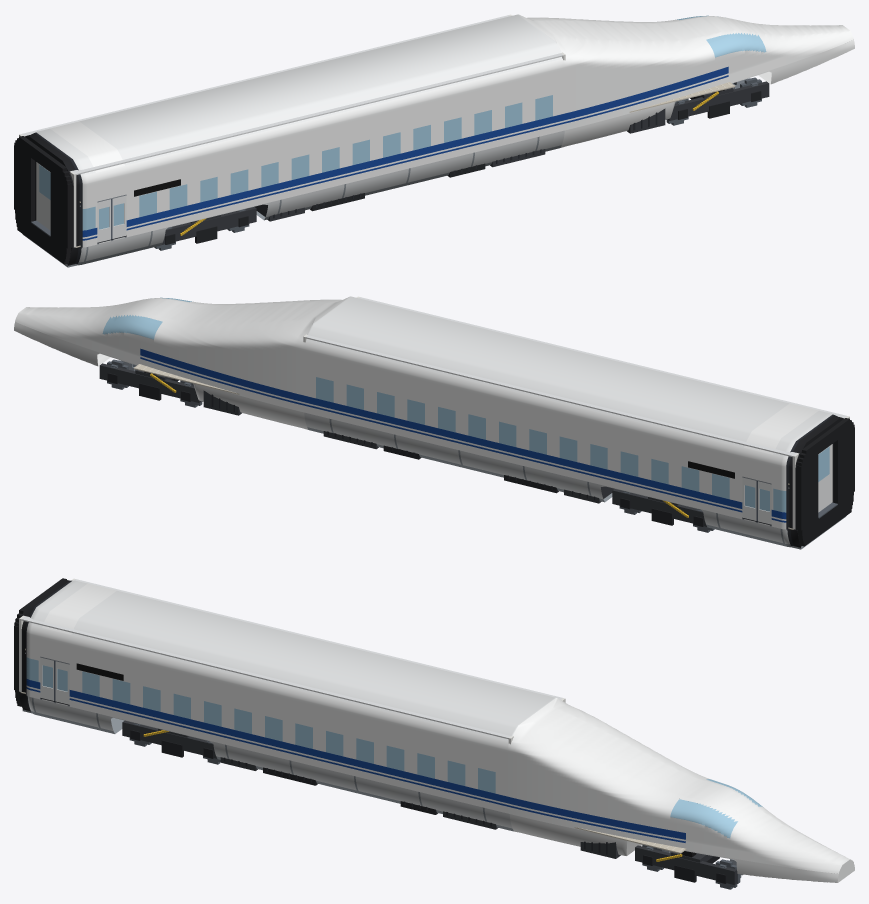
File: n700s_front.obj
3 renders of one model, top to bottom at view 1: azimuth 30°, elevation 25°; view 2: azimuth 150°, elevation 25°; view 3: azimuth 330°, elevation 25°, orthographic.
Visible parts, largest first — view 1: SHELL, SHELL_diaphragm, SHELL_ceiling, BOGEY_FRONT, FRAME, BOGEY_REAR, CONNECTING_DOOR_1_CG_CR_TOGGLE_TL_0.98_Z, EXTERNAL_DOOR_3_CG_DR1_TOGGLE_TL_-0.44_X, EXTERNAL_DOOR_4_CG_DR1_TOGGLE_TL_0.44_X; view 2: SHELL, SHELL_diaphragm, SHELL_ceiling, BOGEY_FRONT, FRAME, BOGEY_REAR, CONNECTING_DOOR_1_CG_CR_TOGGLE_TL_0.98_Z, EXTERNAL_DOOR_6_CG_DL1_TOGGLE_TL_-0.44_X, EXTERNAL_DOOR_7_CG_DL1_TOGGLE_TL_0.44_X; view 3: SHELL, SHELL_ceiling, BOGEY_FRONT, BOGEY_REAR, FRAME, EXTERNAL_DOOR_3_CG_DR1_TOGGLE_TL_-0.44_X, EXTERNAL_DOOR_4_CG_DR1_TOGGLE_TL_0.44_X.
Boxes of the visible parts, left/top/right/bottom form: SHELL: left=22, top=14, right=854, bottom=267; SHELL_diaphragm: left=14, top=136, right=72, bottom=264; SHELL_ceiling: left=21, top=15, right=563, bottom=175; BOGEY_FRONT: left=667, top=81, right=769, bottom=120; FRAME: left=97, top=108, right=665, bottom=243; BOGEY_REAR: left=162, top=207, right=256, bottom=244; CONNECTING_DOOR_1_CG_CR_TOGGLE_TL_0.98_Z: left=37, top=163, right=50, bottom=230; EXTERNAL_DOOR_3_CG_DR1_TOGGLE_TL_-0.44_X: left=97, top=199, right=112, bottom=242; EXTERNAL_DOOR_4_CG_DR1_TOGGLE_TL_0.44_X: left=112, top=195, right=126, bottom=238; SHELL: left=14, top=296, right=846, bottom=549; SHELL_diaphragm: left=796, top=418, right=854, bottom=546; SHELL_ceiling: left=305, top=297, right=846, bottom=457; BOGEY_FRONT: left=99, top=363, right=201, bottom=402; FRAME: left=203, top=390, right=771, bottom=525; BOGEY_REAR: left=612, top=489, right=706, bottom=526; CONNECTING_DOOR_1_CG_CR_TOGGLE_TL_0.98_Z: left=818, top=445, right=831, bottom=512; EXTERNAL_DOOR_6_CG_DL1_TOGGLE_TL_-0.44_X: left=756, top=481, right=771, bottom=524; EXTERNAL_DOOR_7_CG_DL1_TOGGLE_TL_0.44_X: left=742, top=477, right=756, bottom=520; SHELL: left=18, top=579, right=854, bottom=882; SHELL_ceiling: left=20, top=579, right=562, bottom=739; BOGEY_FRONT: left=635, top=845, right=737, bottom=884; BOGEY_REAR: left=122, top=720, right=217, bottom=758; FRAME: left=40, top=698, right=620, bottom=858; EXTERNAL_DOOR_3_CG_DR1_TOGGLE_TL_-0.44_X: left=40, top=657, right=55, bottom=701; EXTERNAL_DOOR_4_CG_DR1_TOGGLE_TL_0.44_X: left=55, top=661, right=69, bottom=704.
Size of the model in its own units: 27.51 by 3.85 by 3.4.
1 material, 1 textured.
